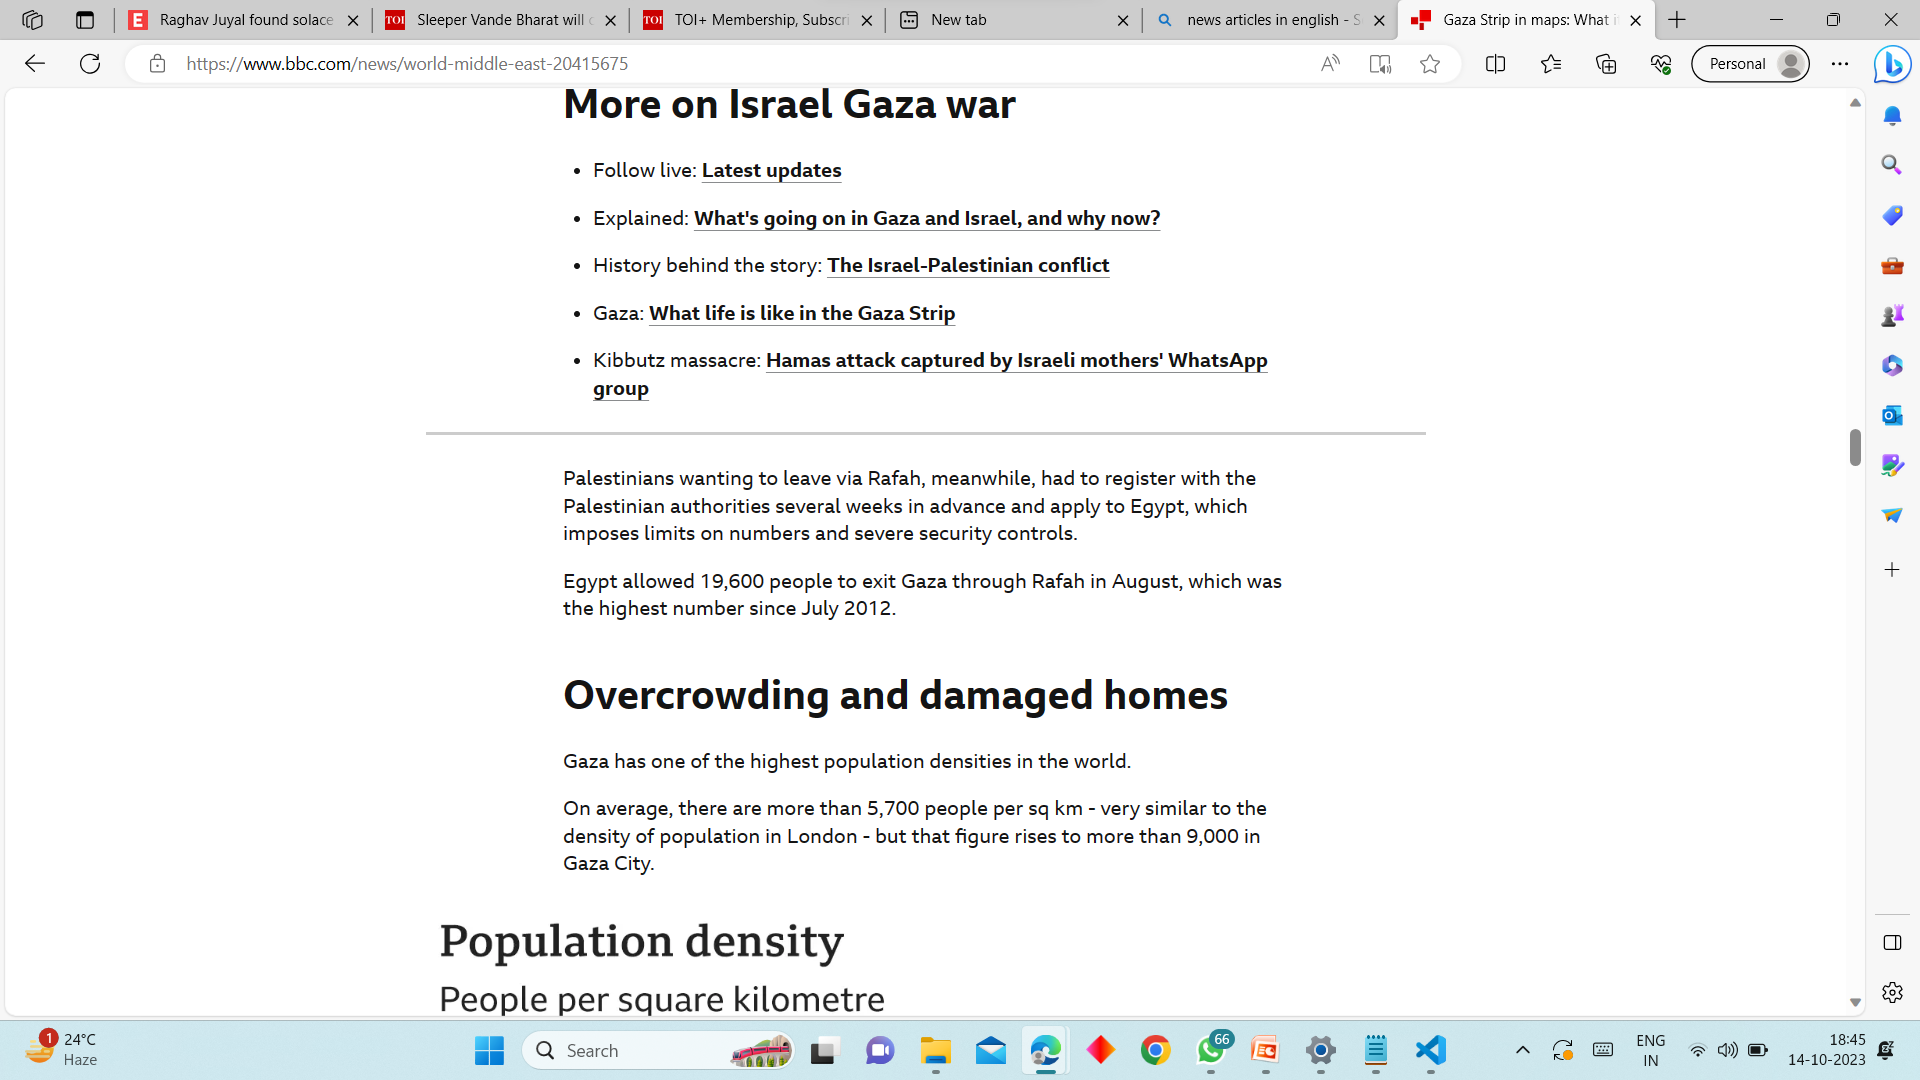Paragraph: (562, 152, 1283, 409), (562, 452, 1276, 555), (556, 556, 1302, 636), (559, 796, 1273, 872), (547, 673, 1237, 717), (543, 83, 1054, 132), (556, 746, 1142, 785), (431, 919, 855, 968), (436, 975, 893, 1013)
